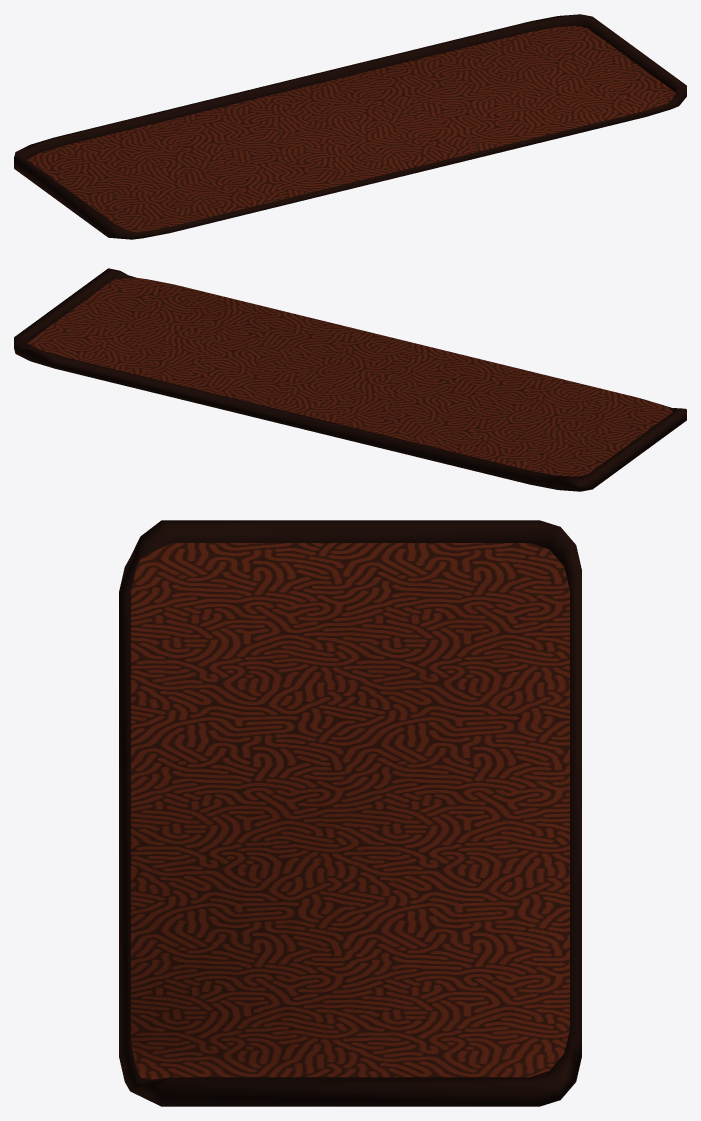
The model's file is Territory.fbx.
3 views of the same model, one above another, from view 1: azimuth 30°, elevation 25°; view 2: azimuth 150°, elevation 25°; view 3: azimuth 270°, elevation 25° (orthographic). The views are drawn at different scales.
Parts seen in each view (by area): view 1: Cube; view 2: Cube; view 3: Cube.
Boxes of the visible parts, x1=… form: Cube: x1=14, y1=14, x2=686, y2=239; Cube: x1=14, y1=268, x2=686, y2=491; Cube: x1=119, y1=520, x2=581, y2=1106.
Size of the model in its own units: 189 by 3.43 by 65.64.
1 material, 1 textured.
